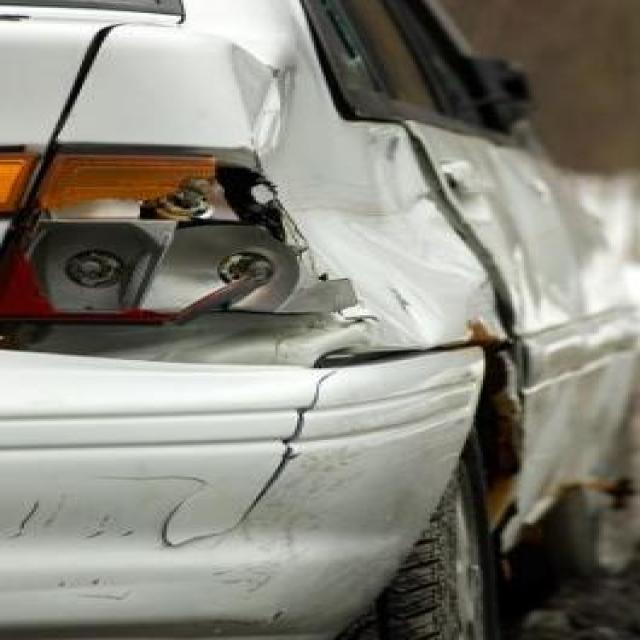crush: (0, 44, 640, 637)
